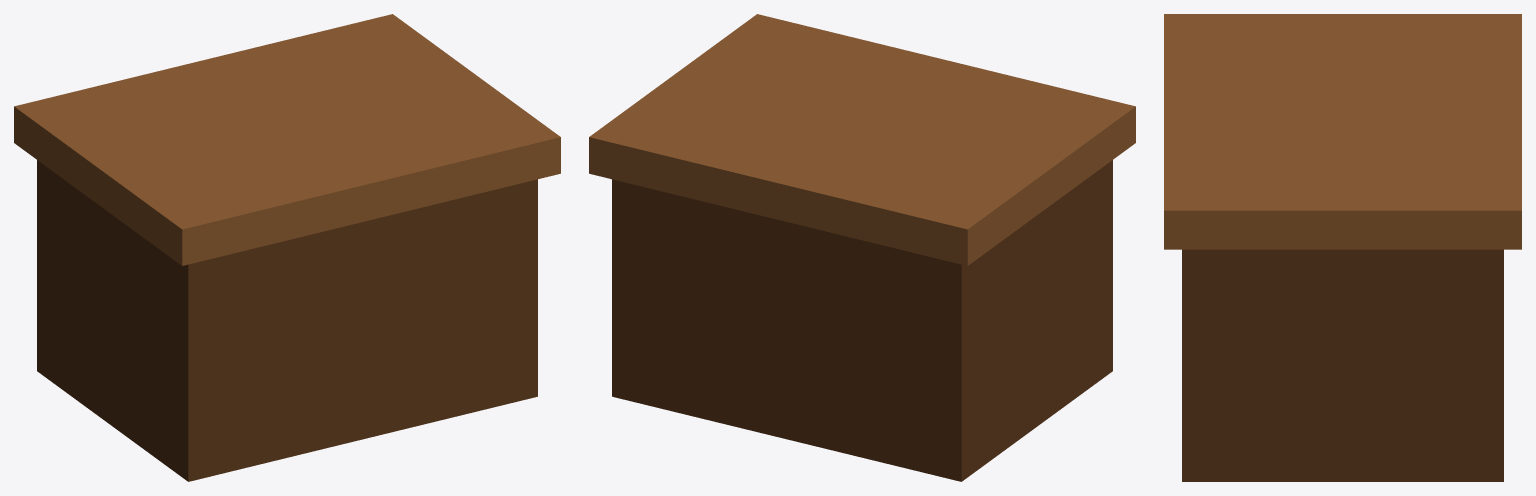
The model's file is bin.glb.
3 views of the same model, side by side, from view 1: azimuth 30°, elevation 25°; view 2: azimuth 150°, elevation 25°; view 3: azimuth 270°, elevation 25° (orthographic). The views are drawn at different scales.
Visible parts, largest first — view 1: bin; view 2: bin; view 3: bin.
Boxes of the visible parts, x1,y1,x2,y2 form: bin: (14, 14, 560, 481); bin: (589, 14, 1135, 481); bin: (1164, 14, 1521, 481).
Size of the model in its own units: 1.3 by 0.86 by 1.
